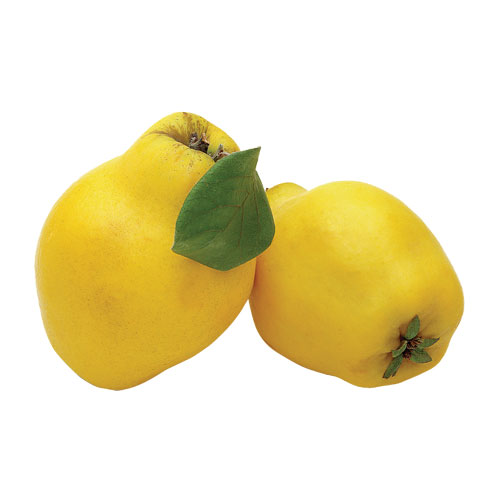Quince: (2, 117, 272, 387), (254, 170, 478, 394)
